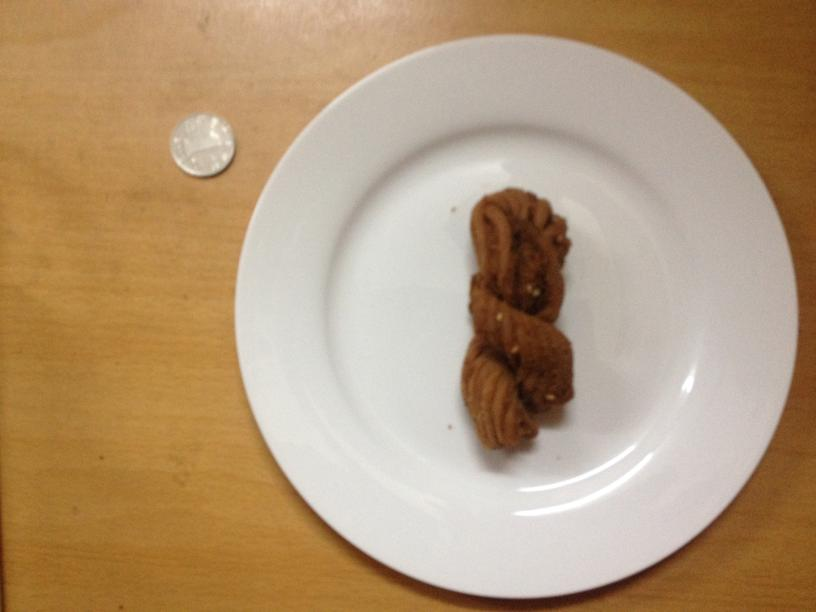coin: (169, 116, 235, 177)
fired_dough_twist: (463, 186, 575, 454)
